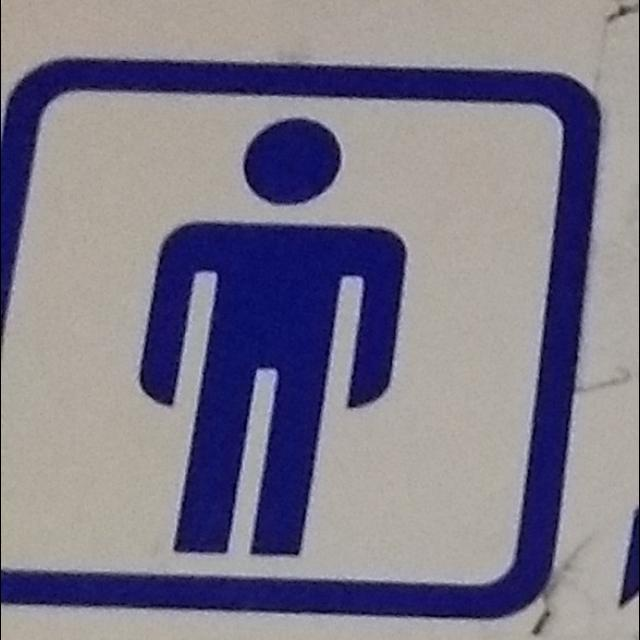mens_restroom: (1, 60, 600, 620)
